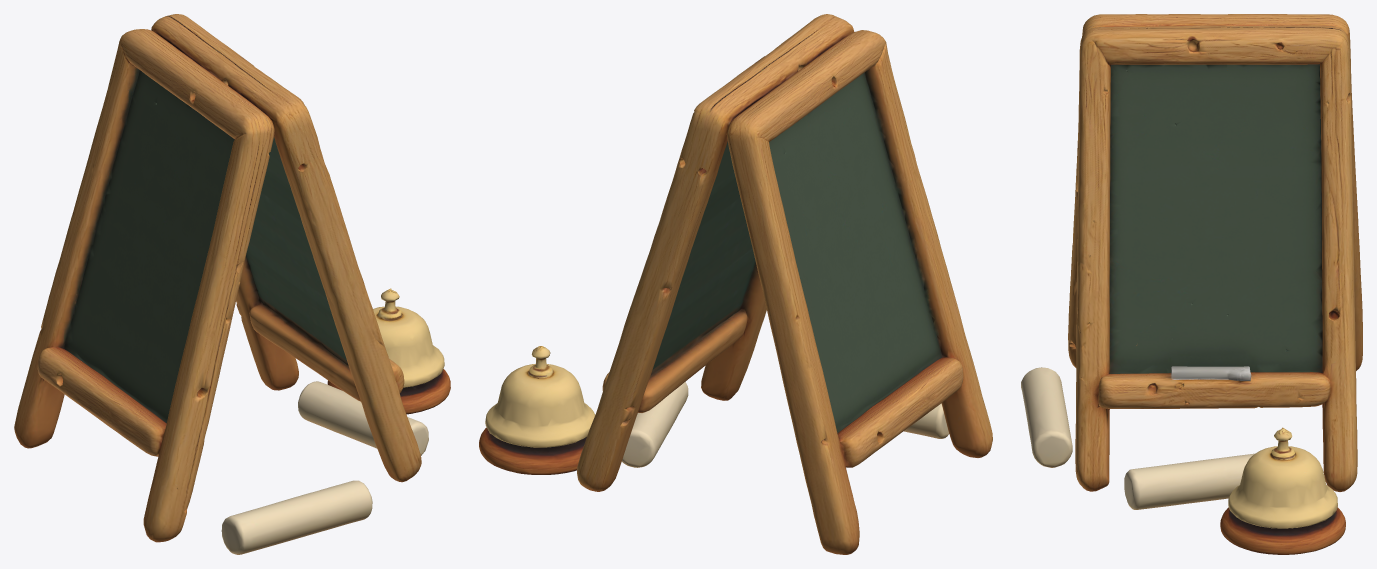
The model's file is discovery-bot-v2.glb.
3 views of the same model, side by side, from view 1: azimuth 30°, elevation 25°; view 2: azimuth 150°, elevation 25°; view 3: azimuth 270°, elevation 25° (orthographic). The views are drawn at different scales.
Visible parts, largest first — view 1: tripo_node_ef8e4a8d-4261-4354-8479-7f43c7c3d91d; view 2: tripo_node_ef8e4a8d-4261-4354-8479-7f43c7c3d91d; view 3: tripo_node_ef8e4a8d-4261-4354-8479-7f43c7c3d91d.
Boxes of the visible parts, x1,y1,x2,y2 form: tripo_node_ef8e4a8d-4261-4354-8479-7f43c7c3d91d: (14, 14, 450, 554); tripo_node_ef8e4a8d-4261-4354-8479-7f43c7c3d91d: (479, 14, 992, 554); tripo_node_ef8e4a8d-4261-4354-8479-7f43c7c3d91d: (1021, 14, 1362, 554).
Size of the model in its own units: 0.9954 by 1 by 0.7437.
1 material, 1 textured.
